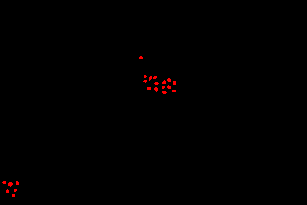Target: (8, 182, 13, 187), (154, 87, 158, 92), (167, 78, 171, 82), (162, 80, 166, 84), (167, 85, 171, 89), (149, 76, 152, 81), (154, 82, 159, 85), (162, 91, 167, 94), (139, 56, 143, 59), (153, 76, 157, 79), (143, 80, 147, 83), (173, 81, 176, 85), (147, 87, 151, 90), (2, 181, 6, 184), (16, 181, 19, 185), (6, 189, 9, 193), (144, 75, 147, 78), (162, 86, 165, 89), (14, 189, 17, 192), (12, 194, 15, 197), (172, 90, 176, 92)
